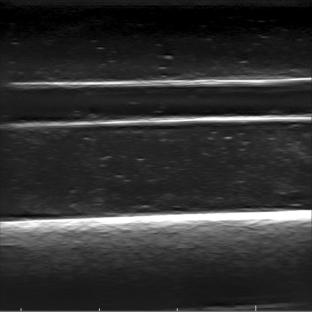vessel: (3, 77, 308, 128)
